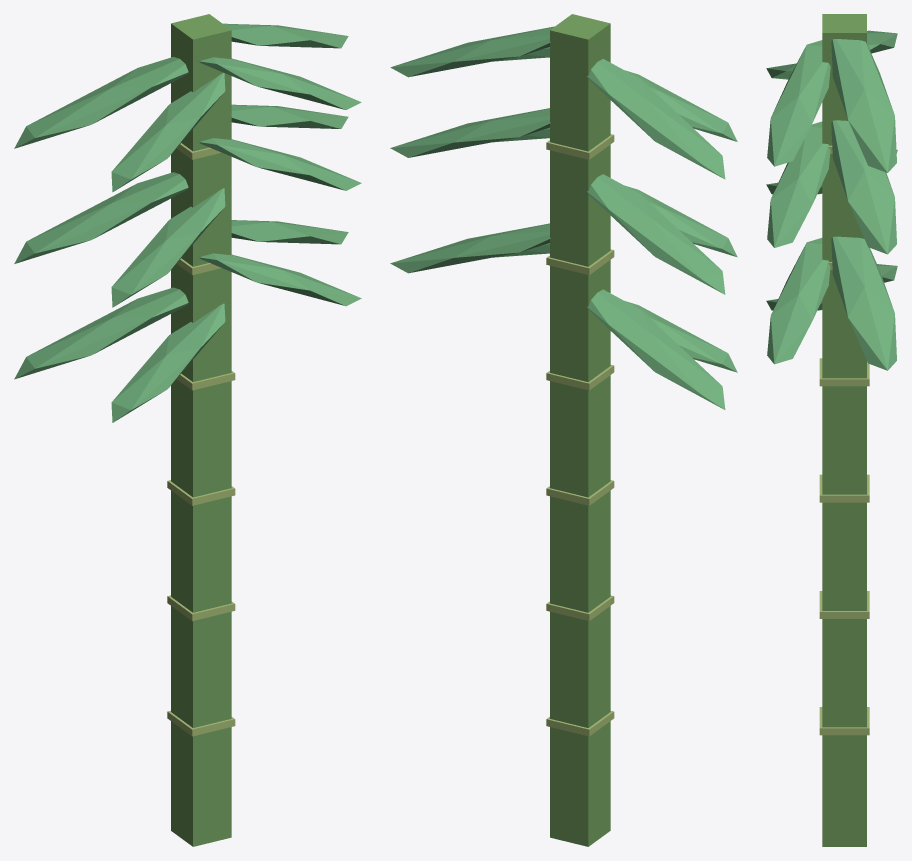
Rendered from linglong_bamboo.glb.
The picture shows the model from 3 angles, left to right: view 1: azimuth 30°, elevation 25°; view 2: azimuth 150°, elevation 25°; view 3: azimuth 270°, elevation 25°; orthographic projection.
Parts seen in each view (by area): view 1: LinglongBamboo; view 2: LinglongBamboo; view 3: LinglongBamboo.
Boxes of the visible parts, box(x1,y1,x2,y2) form: LinglongBamboo: box(14, 14, 361, 846); LinglongBamboo: box(390, 14, 737, 846); LinglongBamboo: box(766, 14, 897, 846).
Bounding box in the file's own units: 3.04 × 7 × 1.03.
